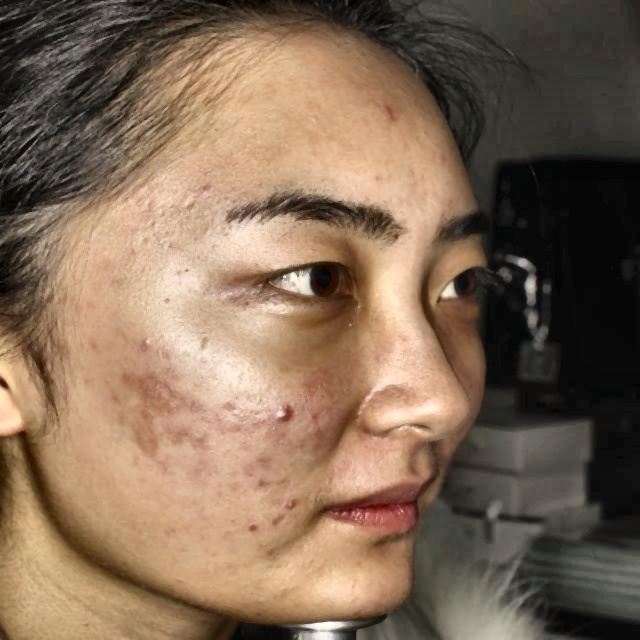pustule: (372, 95, 409, 133), (262, 395, 295, 424), (250, 466, 274, 501), (150, 368, 168, 392), (287, 489, 300, 522), (265, 510, 279, 535)
